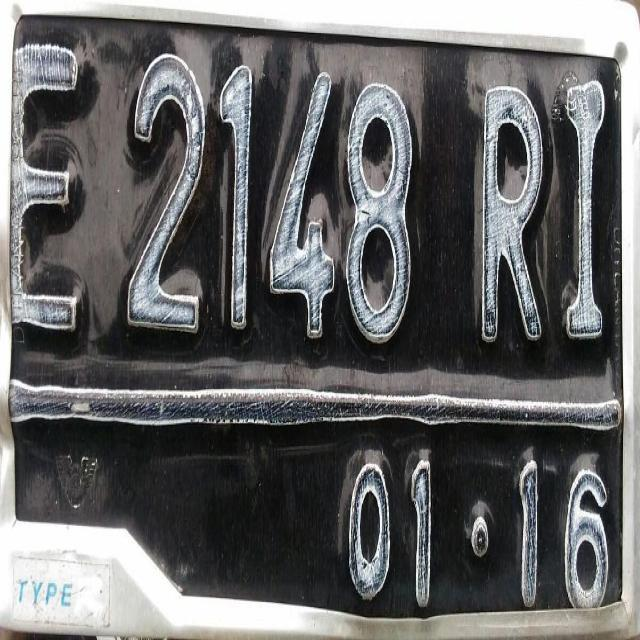1: (216, 38, 258, 351)
2: (122, 38, 208, 346)
4: (266, 45, 344, 348)
8: (342, 46, 416, 348)
E: (11, 38, 88, 355)
I: (554, 49, 612, 358)
R: (473, 56, 554, 357)
